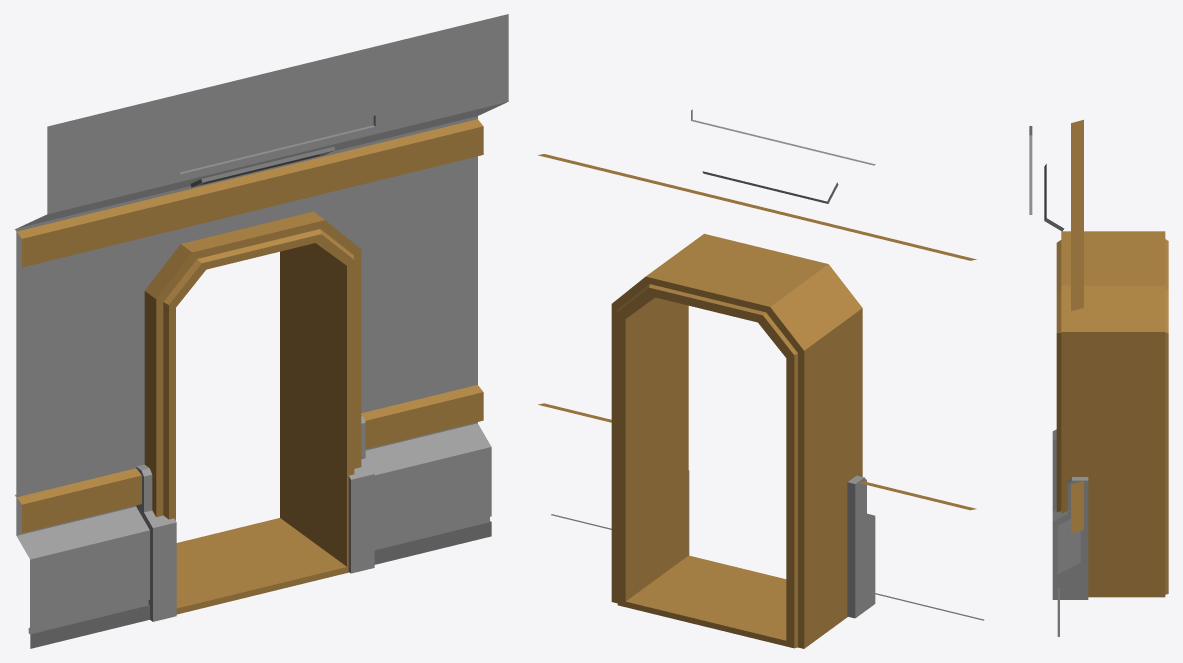
Rendered from DoorSingle_Wall_SideA.glb.
3 views of the same model, side by side, from view 1: azimuth 30°, elevation 25°; view 2: azimuth 150°, elevation 25°; view 3: azimuth 270°, elevation 25° (orthographic). The views are drawn at different scales.
Visible parts, largest first — view 1: Main, Accent, DarkGrey; view 2: Accent, Main, DarkGrey; view 3: Accent, Main, DarkGrey.
Boxes of the visible parts, <box> form: Main: <box>16,14,508,633</box>; Accent: <box>14,119,483,614</box>; DarkGrey: <box>29,146,491,648</box>; Accent: <box>538,154,976,648</box>; Main: <box>688,109,875,618</box>; DarkGrey: <box>551,171,984,620</box>; Accent: <box>1056,119,1168,597</box>; Main: <box>1029,126,1088,599</box>; DarkGrey: <box>1044,164,1064,636</box>.
Size of the model in its own units: 4 by 4.44 by 1.25.
